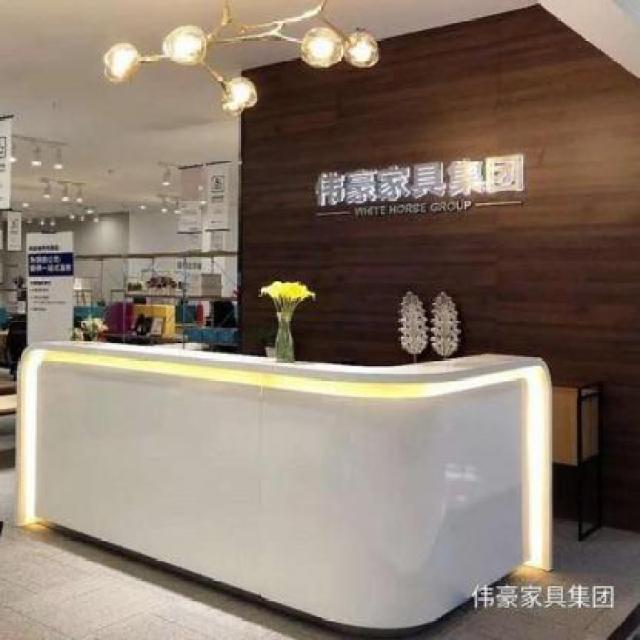frontdesk: (8, 314, 568, 638)
